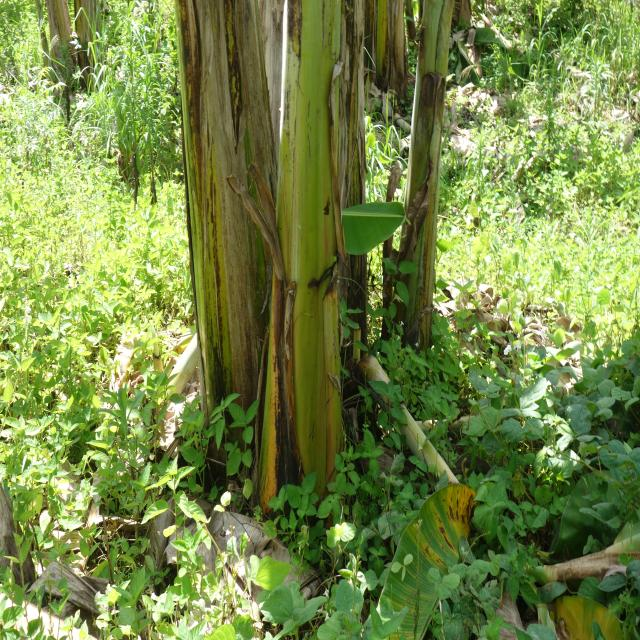Banana-plant: (173, 0, 272, 509), (264, 0, 350, 514), (396, 0, 452, 363)
